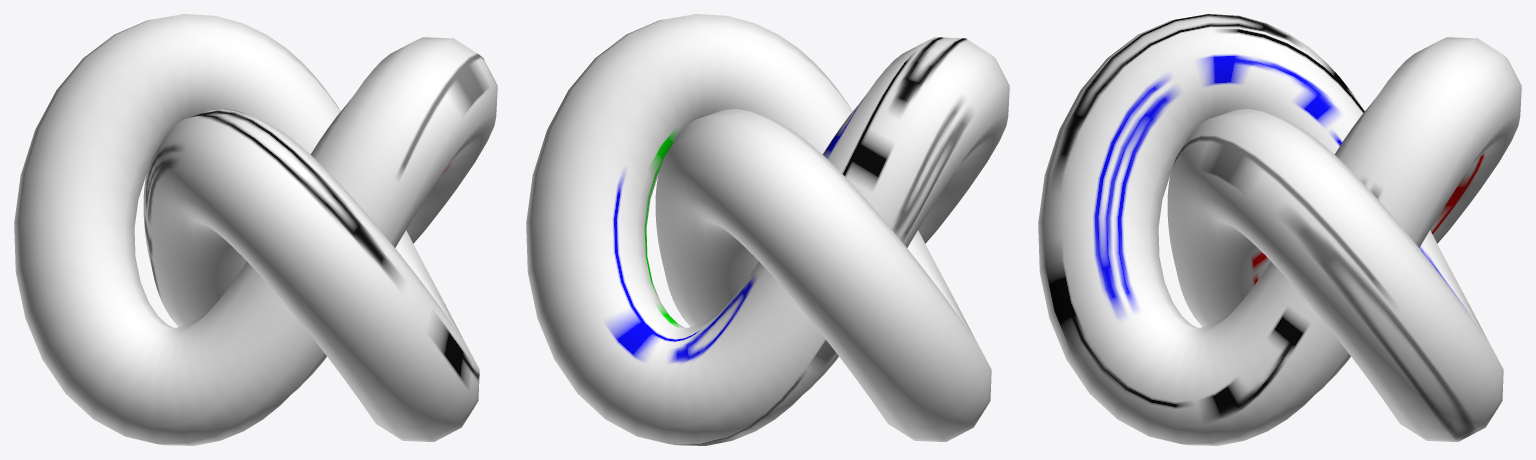
The model's file is torusanimatedlights.FBX.
The picture shows the model from 3 angles, left to right: view 1: azimuth 30°, elevation 25°; view 2: azimuth 150°, elevation 25°; view 3: azimuth 270°, elevation 25°; orthographic projection.
Visible parts, largest first — view 1: Torus Knot01; view 2: Torus Knot01; view 3: Torus Knot01.
Boxes of the visible parts, x1,y1,x2,y2 form: Torus Knot01: (14, 14, 497, 445); Torus Knot01: (526, 14, 1009, 445); Torus Knot01: (1038, 14, 1521, 445).
Bounding box in the file's own units: 68.98 × 66.53 × 51.61.
Materials: 1 (1 with a texture image).
